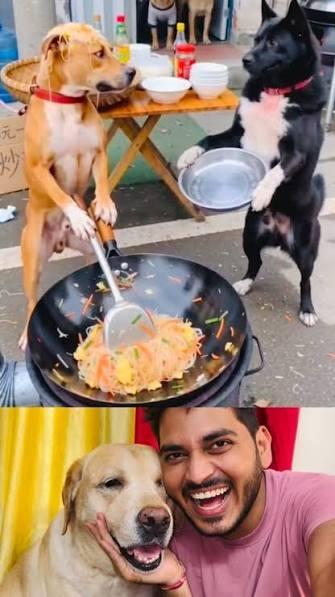adult_dog: (176, 2, 334, 327), (16, 23, 141, 347), (1, 445, 173, 596)
non-dog: (87, 406, 335, 597)
